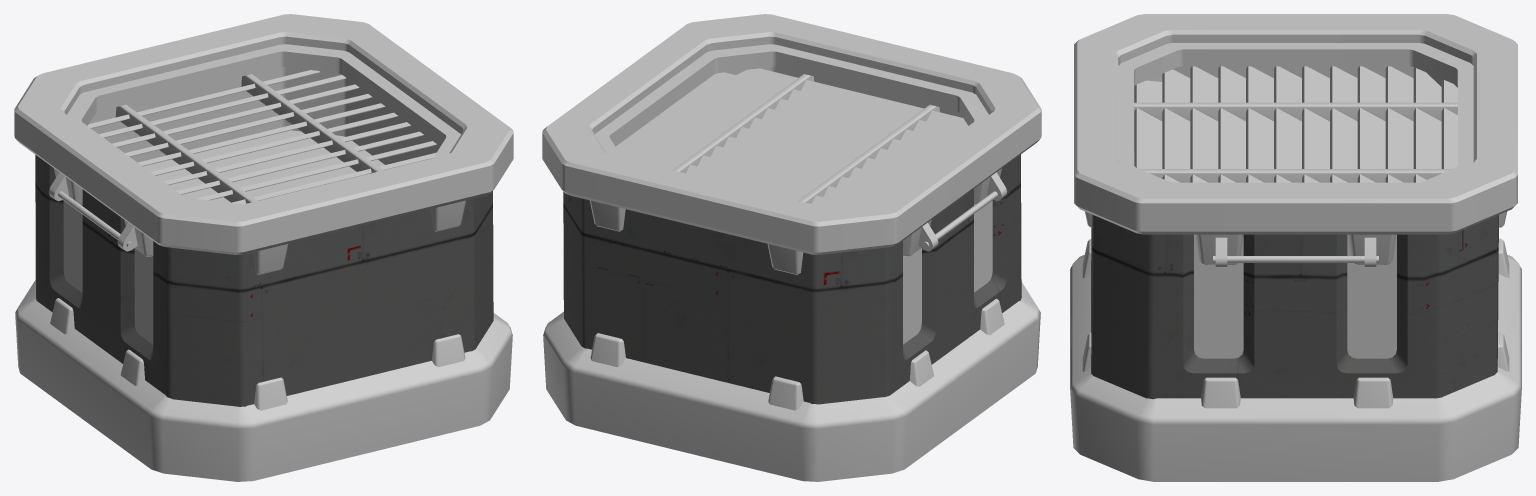
Rendered from Prop_Went_big2.fbx.
3 views of the same model, side by side, from view 1: azimuth 30°, elevation 25°; view 2: azimuth 150°, elevation 25°; view 3: azimuth 270°, elevation 25° (orthographic). The views are drawn at different scales.
Visible parts, largest first — view 1: polySurface20; view 2: polySurface20; view 3: polySurface20.
Part boxes in pixels (<box>): polySurface20: <box>14,14,513,481</box>; polySurface20: <box>542,14,1041,481</box>; polySurface20: <box>1070,14,1521,481</box>.
Size of the model in its own units: 151 by 104 by 151.
